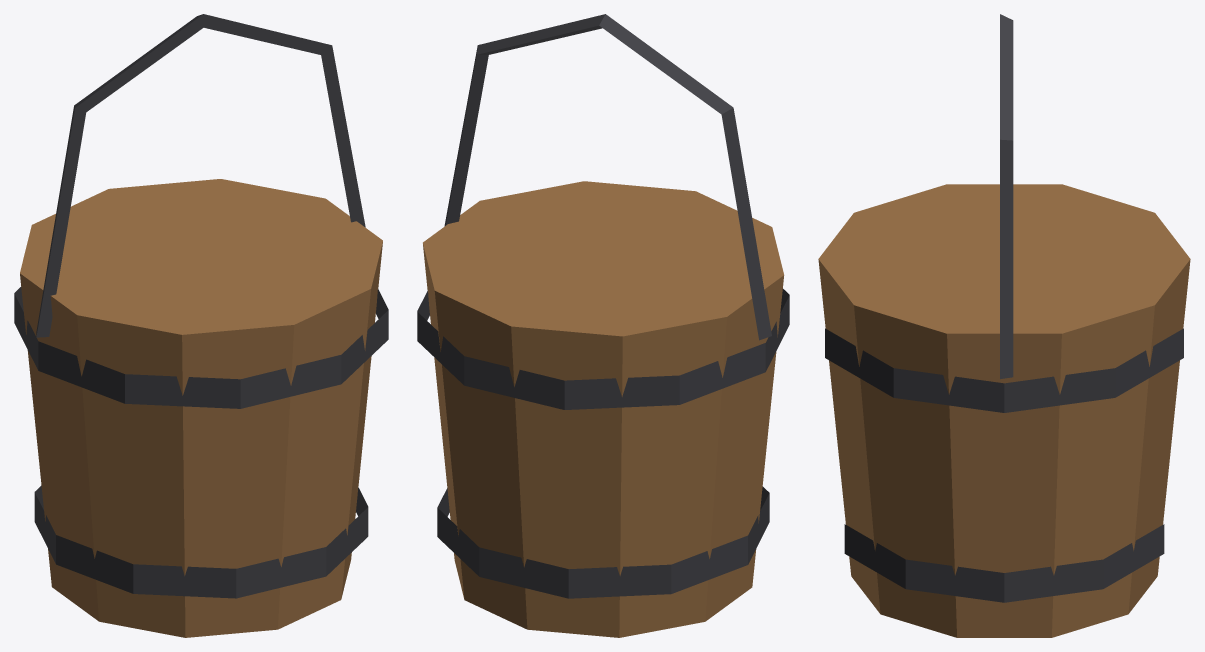
The model's file is Bucket.fbx.
3 renders of one model, left to right at view 1: azimuth 30°, elevation 25°; view 2: azimuth 150°, elevation 25°; view 3: azimuth 270°, elevation 25°, orthographic.
Parts seen in each view (by area): view 1: Bucket; view 2: Bucket; view 3: Bucket.
Boxes of the visible parts, x1,y1,x2,y2 form: Bucket: (14, 14, 388, 637); Bucket: (417, 14, 789, 637); Bucket: (818, 14, 1190, 637).
Size of the model in its own units: 0.3536 by 0.5669 by 0.34.
